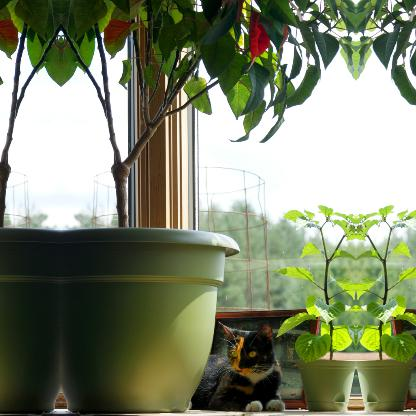Cat: (191, 320, 289, 412)
